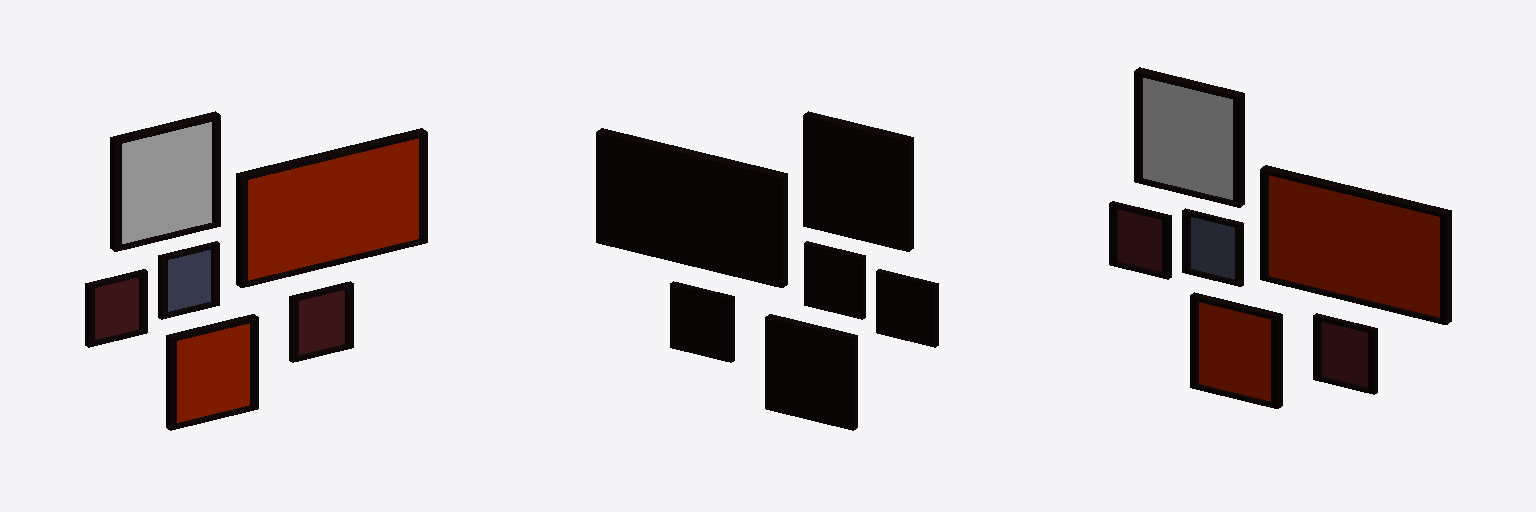
The model's file is photo.obj.
3 renders of one model, left to right at view 1: azimuth 30°, elevation 25°; view 2: azimuth 150°, elevation 25°; view 3: azimuth 330°, elevation 25°, orthographic.
Visible parts, largest first — view 1: Cube.022; view 2: Cube.022; view 3: Cube.022.
Boxes of the visible parts, x1=… form: Cube.022: x1=85, y1=111, x2=427, y2=430; Cube.022: x1=596, y1=111, x2=938, y2=430; Cube.022: x1=1109, y1=67, x2=1451, y2=408.
Bounding box in the file's own units: 6.27 × 5.38 × 0.1804.